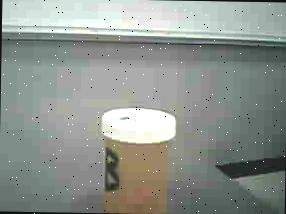Bottle B: (91, 102, 183, 214)
